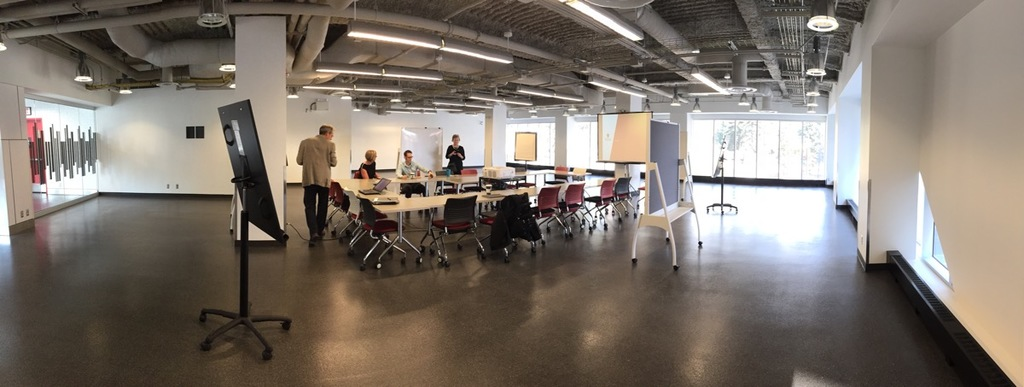Chair: (422, 196, 487, 266), (354, 198, 408, 268), (479, 193, 535, 256), (344, 191, 387, 253), (532, 185, 572, 244), (585, 179, 621, 230), (333, 179, 364, 234), (602, 177, 640, 220), (556, 184, 588, 229), (571, 167, 585, 181), (556, 167, 567, 179)
